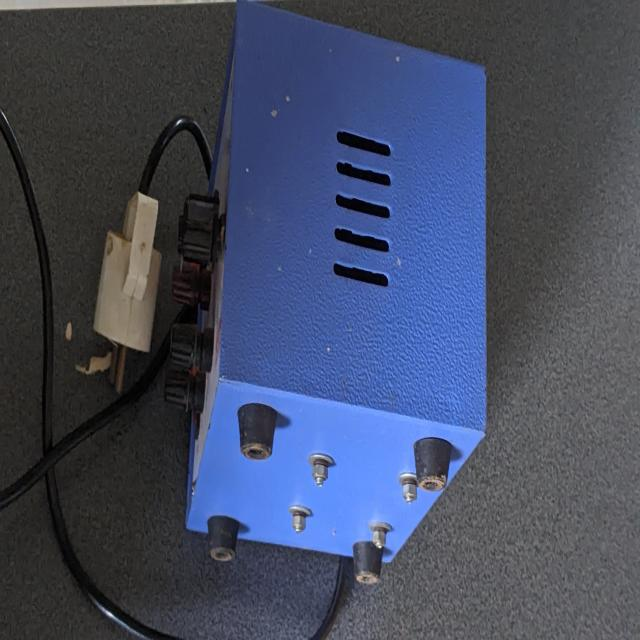Analog DC Power Supply: (162, 34, 490, 598)
